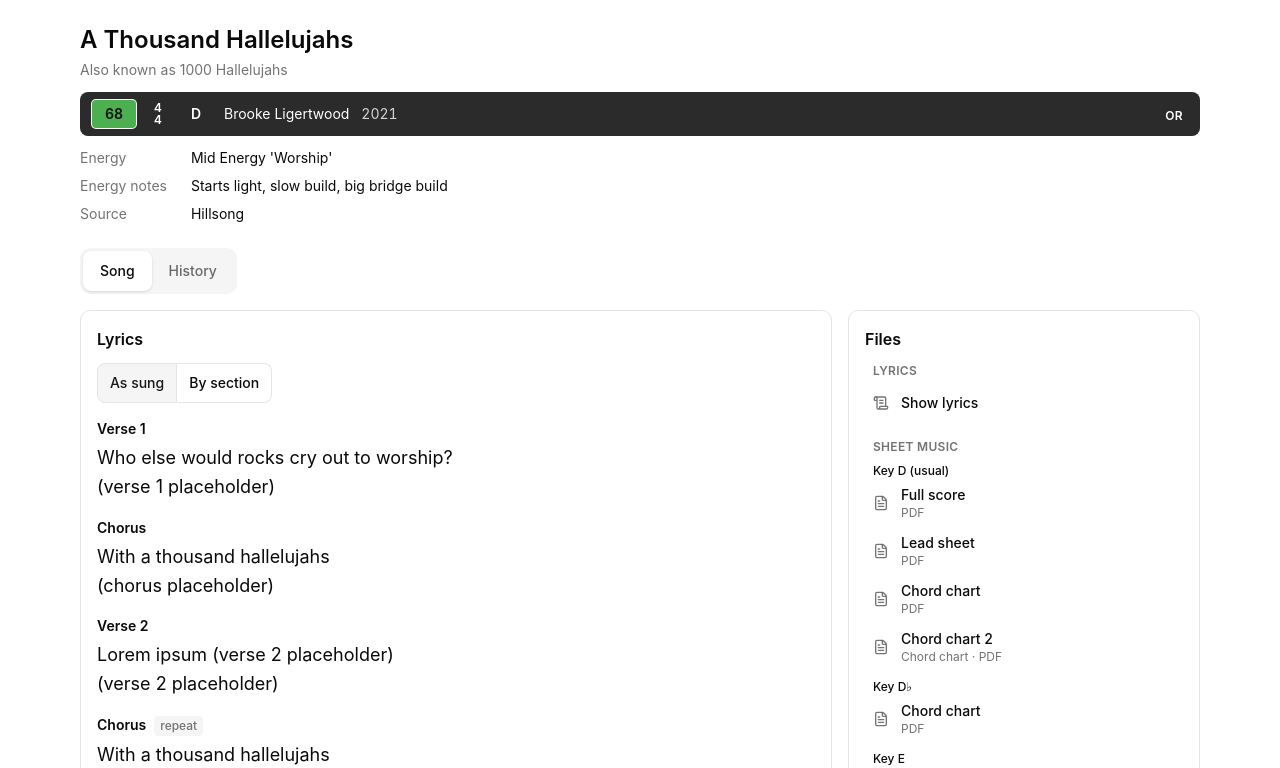
Test: SongPage › shows the History tab only when allowed, with the slot as its content
This screenshot has width=1280, height=768.
Click the tab "History". click: (193, 271)
box: left=152, top=251, right=234, bottom=291
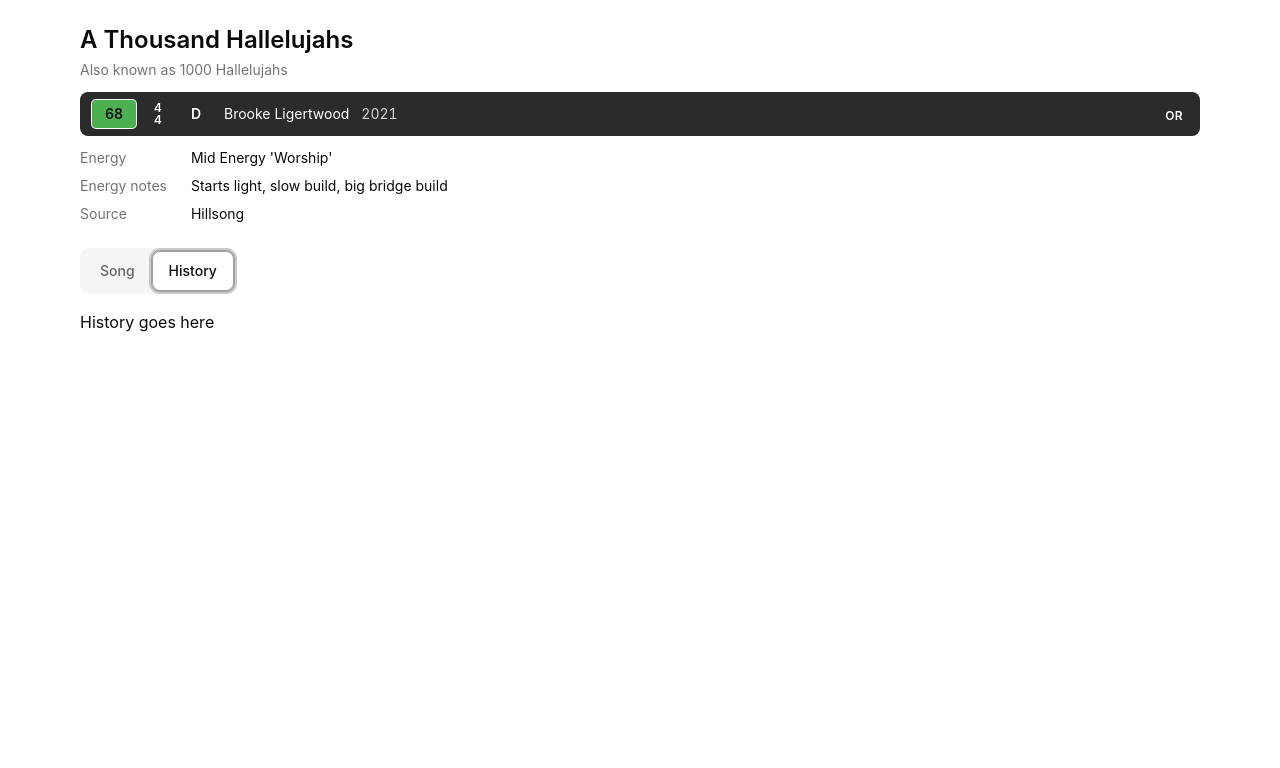
Result: the text "History goes here" is shown at left=80, top=312, right=214, bottom=332
